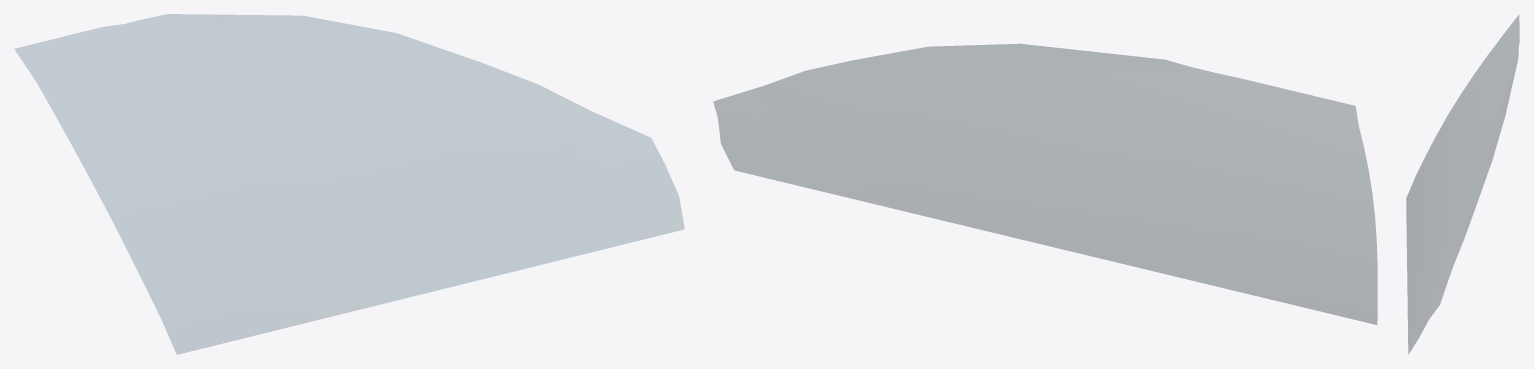
3 views of the same model, side by side, from view 1: azimuth 30°, elevation 25°; view 2: azimuth 150°, elevation 25°; view 3: azimuth 270°, elevation 25° (orthographic). The views are drawn at different scales.
Visible parts, largest first — view 1: SM_FordCrown02_Door_FR_Glass_Int1; view 2: SM_FordCrown02_Door_FR_Glass_Int1; view 3: SM_FordCrown02_Door_FR_Glass_Int1.
Boxes of the visible parts, x1,y1,x2,y2 form: SM_FordCrown02_Door_FR_Glass_Int1: (14,14,684,354); SM_FordCrown02_Door_FR_Glass_Int1: (713,44,1377,324); SM_FordCrown02_Door_FR_Glass_Int1: (1406,15,1519,353).
Size of the model in its own units: 0.8483 by 0.3576 by 0.227.
